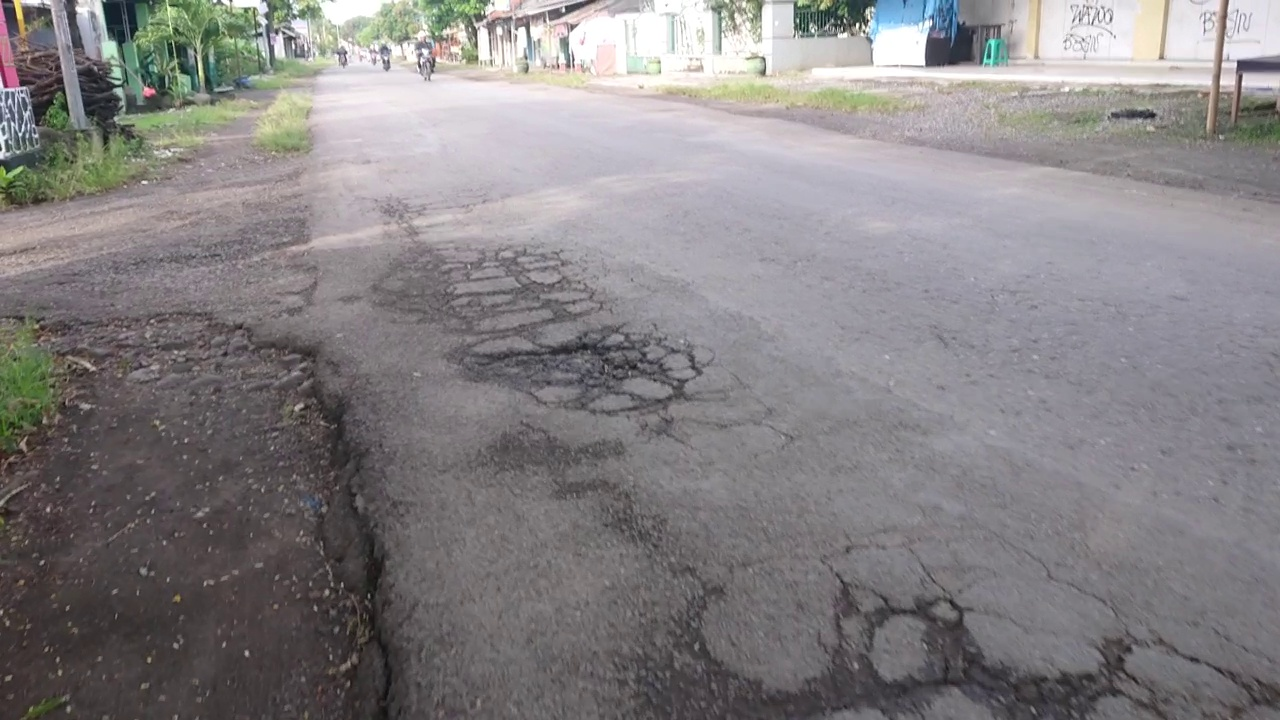Retak: (392, 223, 706, 440)
